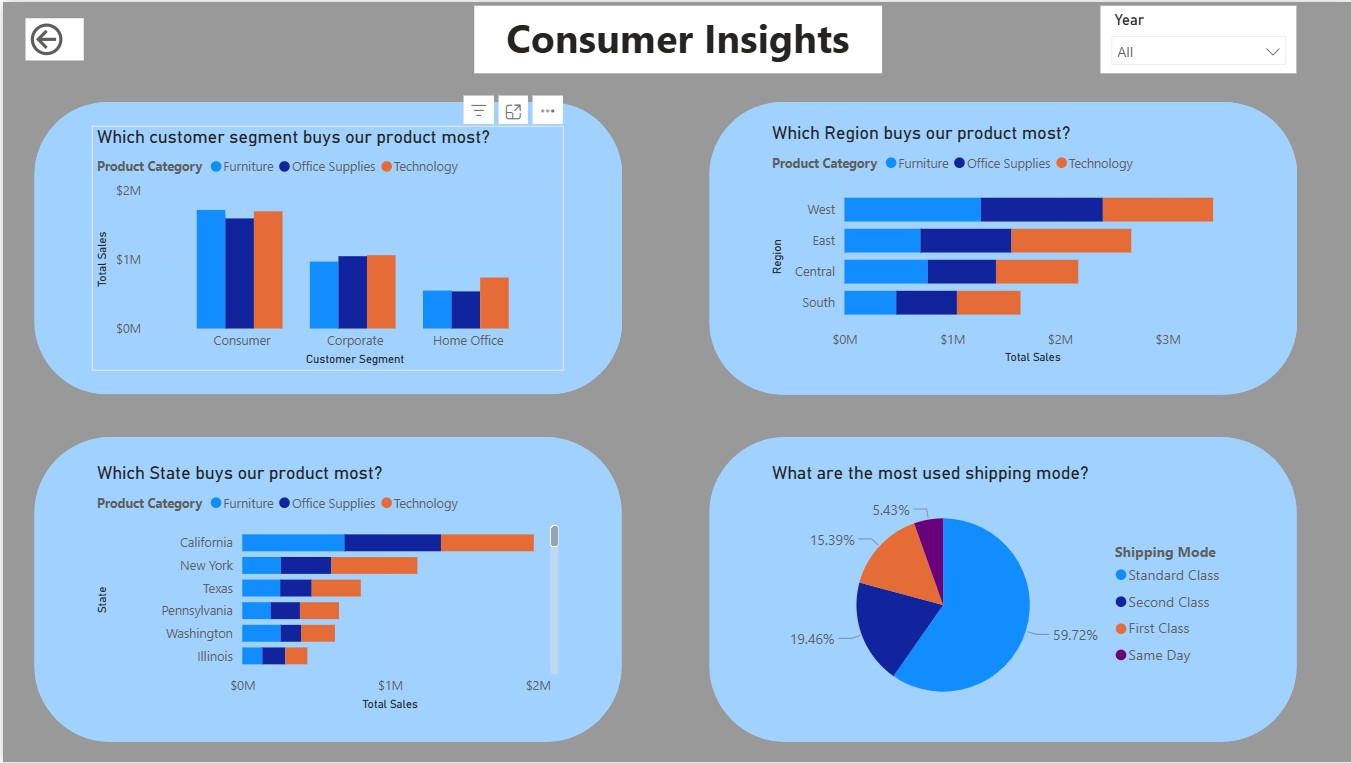

Layout of this report page (visuals, bound fields, positions):
{"tool":"powerbi","page":{"name":"Customer Insights","canvas":[1280,720],"ordinal":3},"visuals":[{"type":"shape","box":[669.1,94.7,557.1,277.3],"z":0},{"type":"shape","box":[29.6,412.1,556.6,289],"z":1000},{"type":"shape","box":[669.1,412.1,556.6,289],"z":2000},{"type":"shape","box":[30,94.3,557.1,277.1],"z":3000},{"type":"clusteredColumnChart","title":"Which customer segment buys our product most?","fields":{"Category":["Customer Table.Segment"],"Y":["_All Measures.Total Sales"],"Series":["Dim_Product_Table.Category"]},"box":[84.1,117.2,447.7,232.1],"z":4000},{"type":"barChart","title":"Which Region buys our product most?","fields":{"Category":["Customer Table.Region"],"Y":["_All Measures.Total Sales"],"Series":["Dim_Product_Table.Category"]},"box":[723.6,113.9,447.9,234.2],"z":5000},{"type":"barChart","title":"Which State buys our product most?","fields":{"Category":["Customer Table.State"],"Series":["Dim_Product_Table.Category"],"Y":["_All Measures.Total Sales"]},"box":[84.1,435.8,447.7,240.4],"z":6000},{"type":"textbox","box":[446.5,3.6,386.1,64],"z":8000},{"type":"actionButton","box":[21.1,15.6,55.6,40],"z":9000},{"type":"slicer","fields":{"Values":["Date Table (Order Date).Year"]},"box":[1039.8,3.6,185.9,64],"z":10000},{"type":"pieChart","title":"What are the most used shipping mode?","fields":{"Category":["Fact_Superstore Sales Table.Ship Mode"],"Y":["_All Measures.Total No. Of Order"]},"box":[723.6,435.8,447.7,252.3],"z":11000}]}

Visuals, with their boxes in screenshot pixels (x1, y1, x2, y2), scaled from the page's 1280x720 canvas onto the 1351x763 screenshot:
shape: <bbox>706, 100, 1294, 394</bbox>
shape: <bbox>31, 437, 619, 743</bbox>
shape: <bbox>706, 437, 1294, 743</bbox>
shape: <bbox>32, 100, 620, 394</bbox>
"Which customer segment buys our product most?" clusteredColumnChart: <bbox>89, 124, 561, 370</bbox>
"Which Region buys our product most?" barChart: <bbox>764, 121, 1236, 369</bbox>
"Which State buys our product most?" barChart: <bbox>89, 462, 561, 717</bbox>
textbox: <bbox>471, 4, 879, 72</bbox>
actionButton: <bbox>22, 17, 81, 59</bbox>
slicer - Date Table (Order Date).Year: <bbox>1097, 4, 1294, 72</bbox>
"What are the most used shipping mode?" pieChart: <bbox>764, 462, 1236, 729</bbox>
